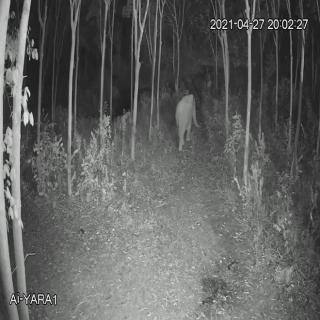Elephant: (172, 90, 205, 151)
